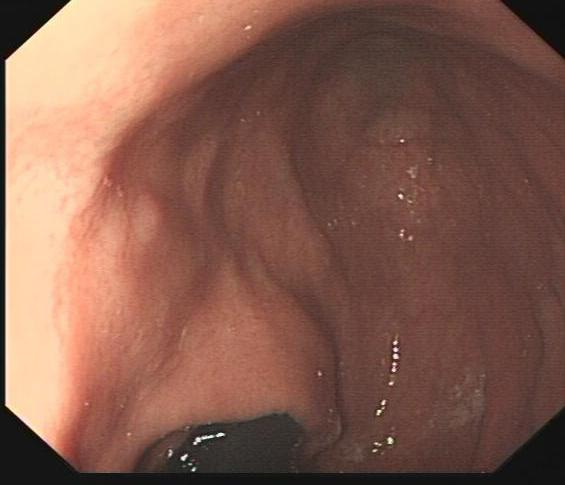Polyp: (121, 177, 174, 251)
